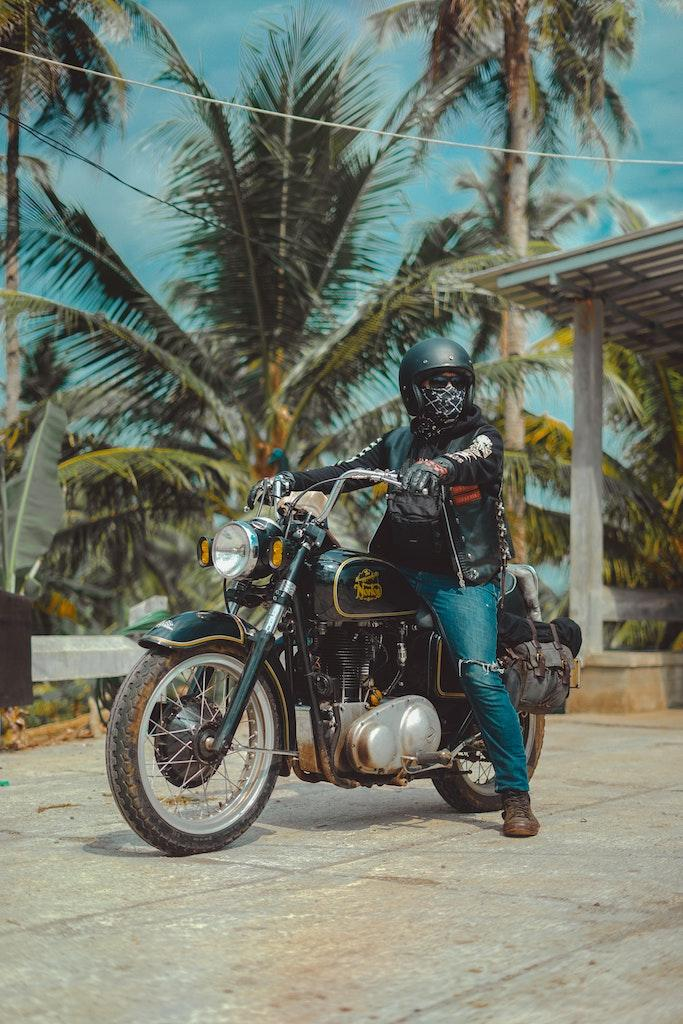helmet: (398, 337, 476, 441)
